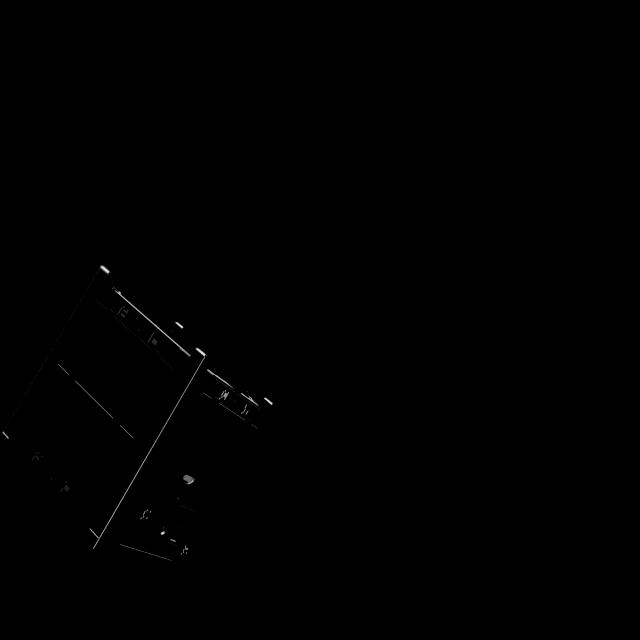medium_debris: (0, 258, 278, 569)
